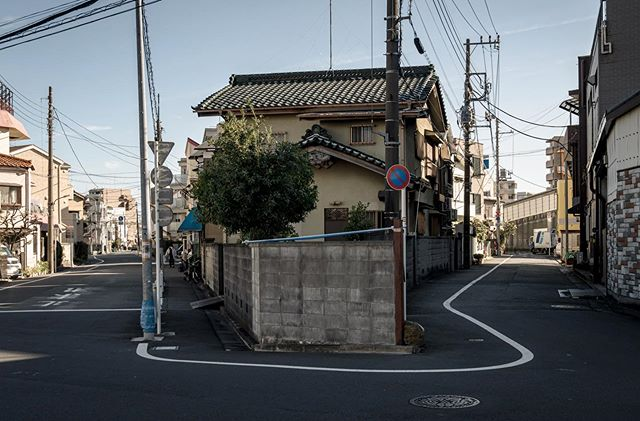building: (210, 67, 461, 274), (572, 1, 640, 292), (483, 124, 570, 254), (15, 152, 82, 271), (1, 93, 33, 288), (88, 188, 142, 246)
sign: (386, 166, 413, 194)
sky: (39, 1, 206, 131)
street: (434, 247, 640, 421), (1, 252, 171, 421), (135, 341, 469, 421)
tree: (181, 111, 324, 246)
